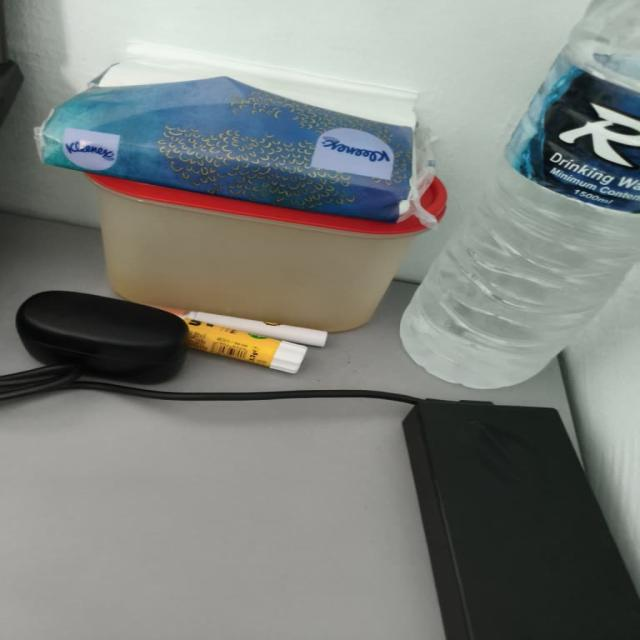glue: (178, 318, 306, 372)
